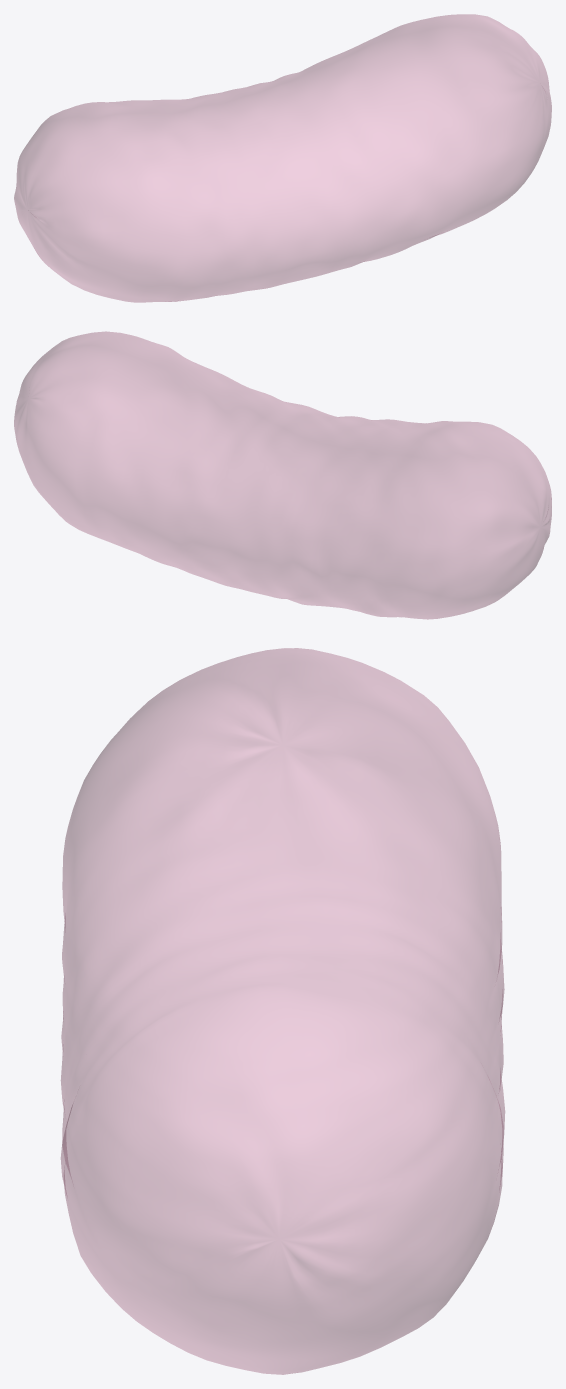
File: eColi.fbx
3 renders of one model, top to bottom at view 1: azimuth 30°, elevation 25°; view 2: azimuth 150°, elevation 25°; view 3: azimuth 270°, elevation 25°, orthographic. The views are drawn at different scales.
Visible parts, largest first — view 1: Sphere; view 2: Sphere; view 3: Sphere.
Part boxes in pixels (x1,y1,x2,y2): Sphere: (14,14,551,302); Sphere: (14,331,551,619); Sphere: (60,648,505,1374).
Size of the model in its own units: 477 by 179 by 179.
